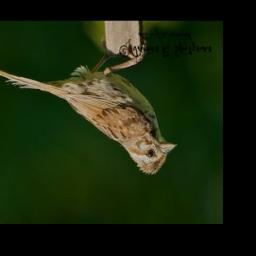Sparrow: (0, 34, 175, 176)
